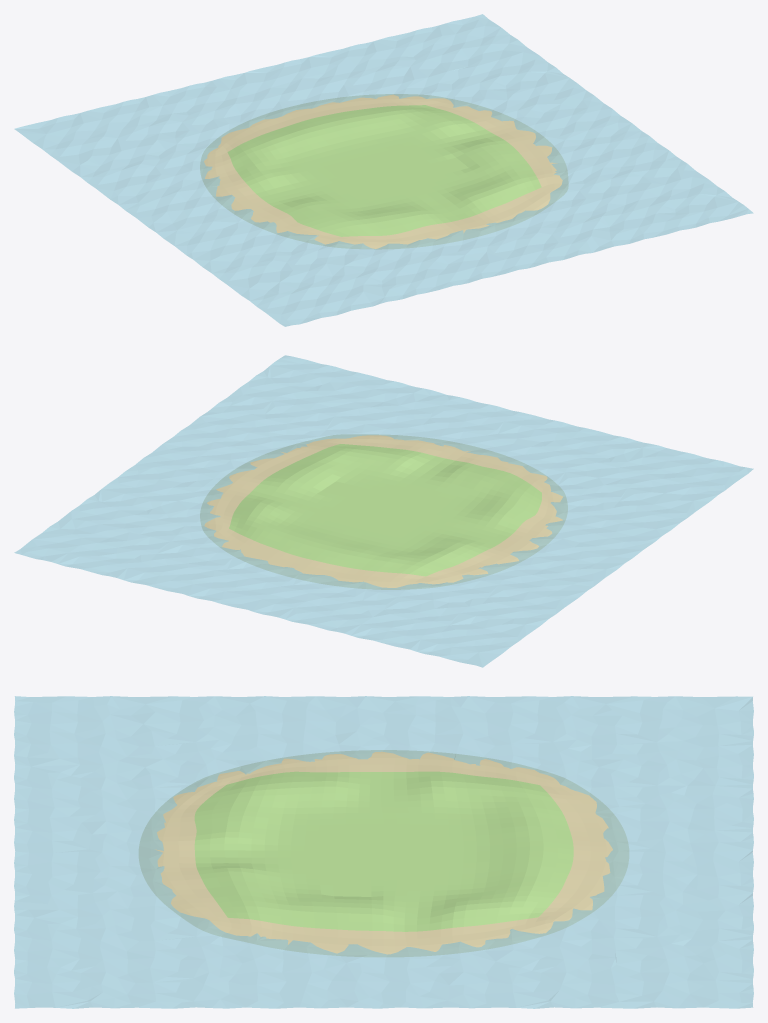
The model's file is IslandWithoutTrees.glb.
3 renders of one model, top to bottom at view 1: azimuth 30°, elevation 25°; view 2: azimuth 150°, elevation 25°; view 3: azimuth 270°, elevation 25°, orthographic. The views are drawn at different scales.
Visible parts, largest first — view 1: Ocean, Island; view 2: Ocean, Island; view 3: Ocean, Island.
Boxes of the visible parts, bbox=[...] form: Ocean: bbox=[14, 14, 753, 326]; Island: bbox=[200, 94, 568, 249]; Ocean: bbox=[14, 355, 753, 667]; Island: bbox=[200, 434, 567, 589]; Ocean: bbox=[14, 696, 753, 1008]; Island: bbox=[139, 750, 628, 956].
Size of what is drawn, in the model's own units: 3912 by 48.06 by 3925.
